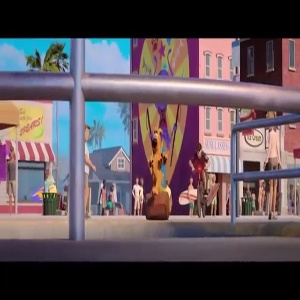Scooby: (147, 125, 172, 159)
